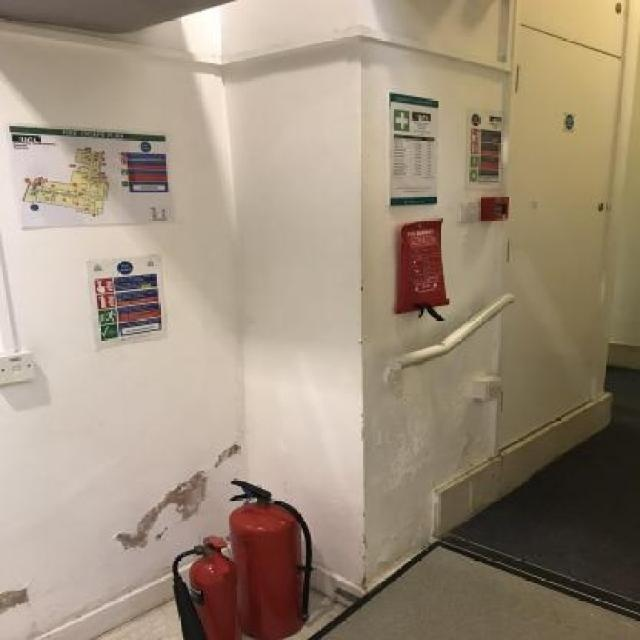fire extinguisher: (230, 480, 321, 638), (161, 533, 247, 638)
